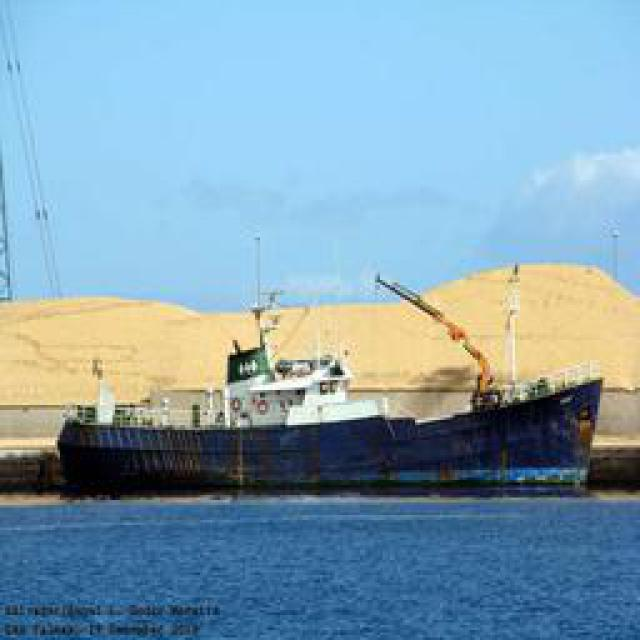Ship: (61, 363, 606, 501)
